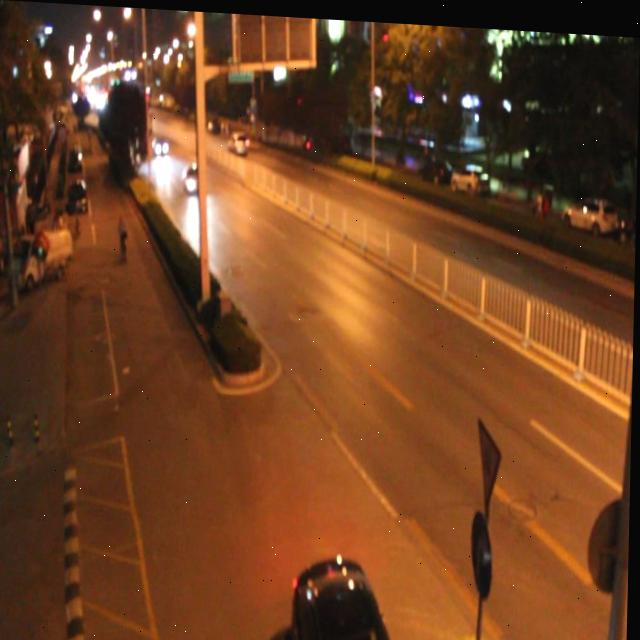car: (291, 545, 403, 640), (182, 159, 207, 191), (226, 125, 249, 155), (151, 131, 170, 156)
